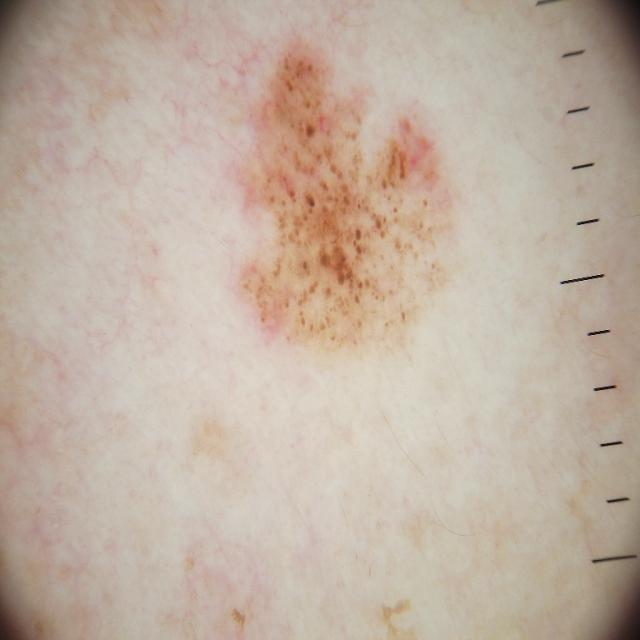Skin-Cancer Melanoma: (6, 4, 569, 640)
